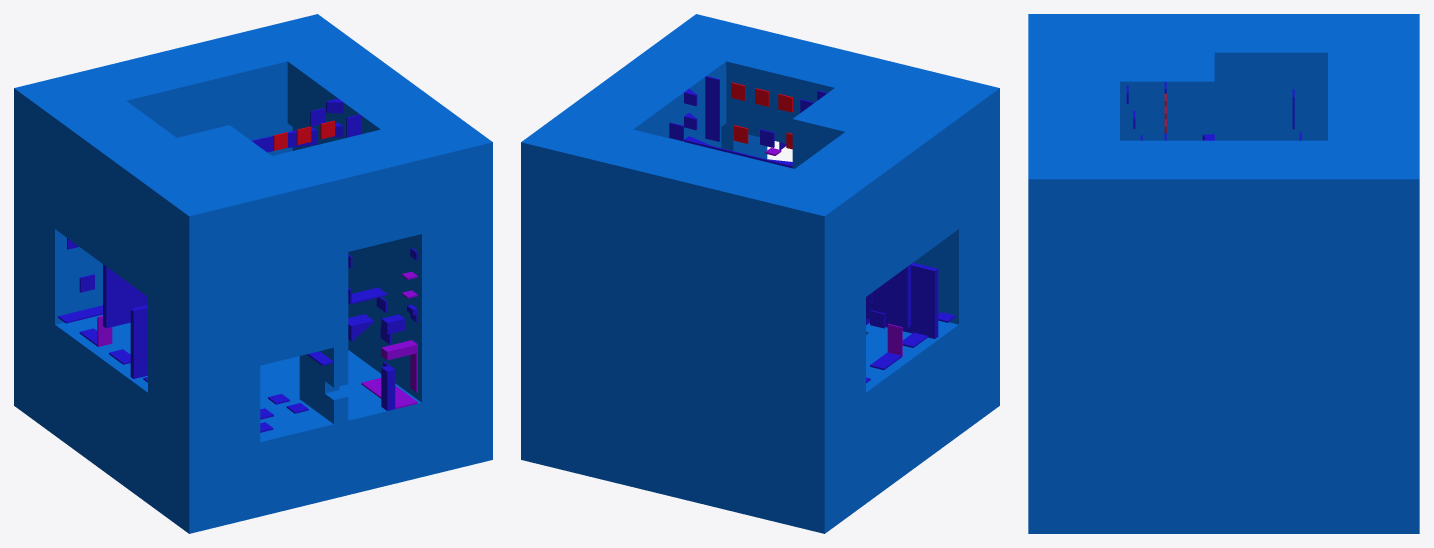
The model's file is CUBAO1.glb.
3 views of the same model, side by side, from view 1: azimuth 30°, elevation 25°; view 2: azimuth 150°, elevation 25°; view 3: azimuth 270°, elevation 25° (orthographic). The views are drawn at different scales.
Parts seen in each view (by area): view 1: PlanoFundo-col, Plano.001-col.002, Plano.001-col.001, PlanoFundo-col.002, PlanoFundo-col.001, PlanoFundo-col.003, plataforma_fundo-col.007, plataforma_fundo-col.004, plataforma_frente.001-col.002, plataforma_frente.001-col.001, plataforma_frente-col.007; view 2: Plano.001-col.002, PlanoFundo-col.001, PlanoFundo-col.002, PlanoFundo-col, Plano.001-col.001, plataforma_fundo-col.004, plataforma_fundo-col.007, plataforma_frente-col.014; view 3: PlanoFundo-col.002, PlanoFundo-col, Plano.001-col.001, Plano.001-col.002, PlanoFundo-col.001.
Part boxes in pixels (x1,y1,x2,y2): PlanoFundo-col: [155, 117, 492, 533]; Plano.001-col.002: [14, 74, 213, 508]; Plano.001-col.001: [107, 53, 398, 176]; PlanoFundo-col.002: [259, 14, 458, 373]; PlanoFundo-col.001: [73, 28, 292, 155]; PlanoFundo-col.003: [260, 350, 381, 408]; plataforma_fundo-col.007: [103, 264, 147, 328]; plataforma_fundo-col.004: [130, 304, 147, 378]; plataforma_frente.001-col.002: [381, 340, 417, 392]; plataforma_frente.001-col.001: [381, 365, 395, 410]; plataforma_frente-col.007: [361, 378, 417, 408]; Plano.001-col.002: [765, 99, 965, 533]; PlanoFundo-col.001: [580, 131, 798, 519]; PlanoFundo-col.002: [521, 39, 721, 473]; PlanoFundo-col: [662, 14, 999, 430]; Plano.001-col.001: [615, 53, 906, 176]; plataforma_fundo-col.004: [885, 263, 938, 338]; plataforma_fundo-col.007: [866, 264, 910, 328]; plataforma_frente-col.014: [705, 76, 719, 141]; PlanoFundo-col.002: [1104, 147, 1419, 533]; PlanoFundo-col: [1028, 14, 1104, 533]; Plano.001-col.001: [1104, 46, 1343, 147]; Plano.001-col.002: [1104, 14, 1419, 140]; PlanoFundo-col.001: [1343, 46, 1419, 147].
Bounding box in the file's own units: 488 × 487 × 487.
